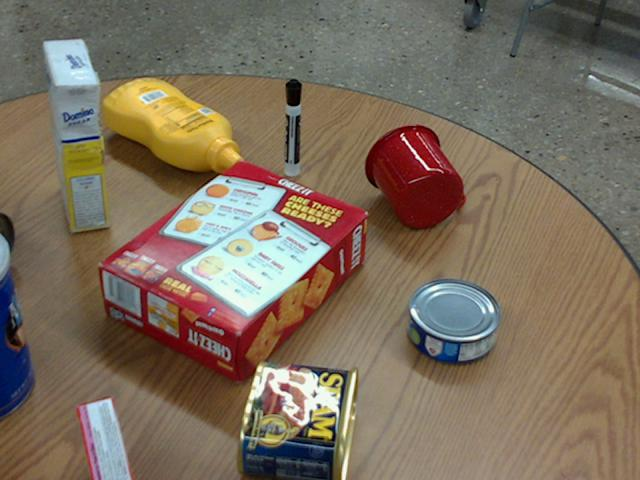cracker_box: (99, 162, 367, 381)
gelatin_box: (76, 394, 132, 479)
large_marker: (284, 79, 301, 175)
master_chef_can: (0, 235, 33, 415)
mug: (364, 124, 465, 228)
mustard_bottle: (103, 79, 242, 172)
potted_meat_can: (235, 360, 358, 479)
sugar_box: (45, 39, 106, 231)
tomato_soup_can: (0, 211, 13, 268)
tuna_fish_can: (407, 279, 500, 363)
